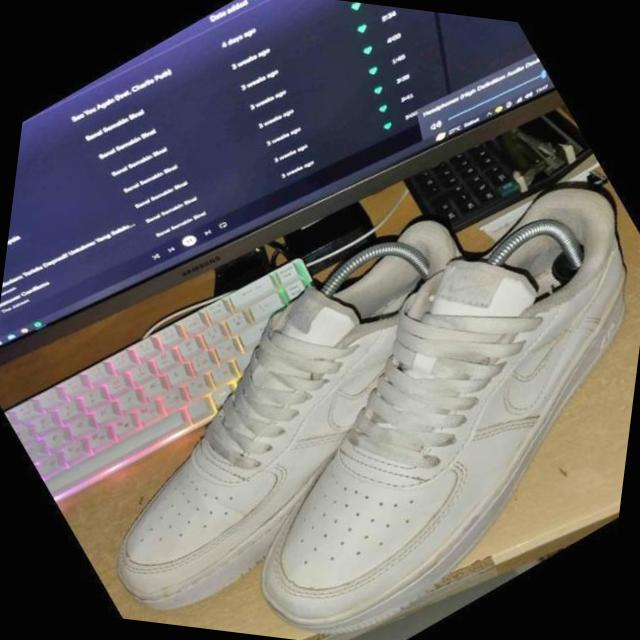nike_fake_airforce: (16, 161, 571, 640), (134, 118, 640, 640)
